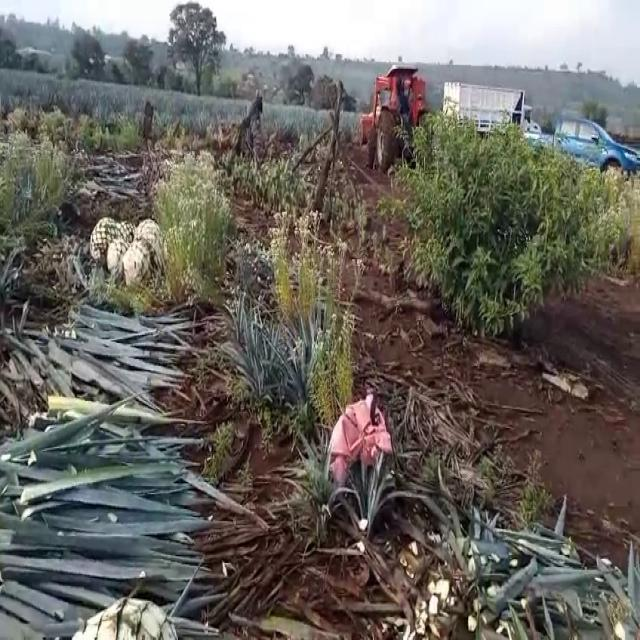agave: (60, 590, 186, 640), (136, 217, 162, 275), (122, 240, 150, 290), (91, 217, 117, 269), (107, 237, 130, 279), (114, 219, 135, 255)
